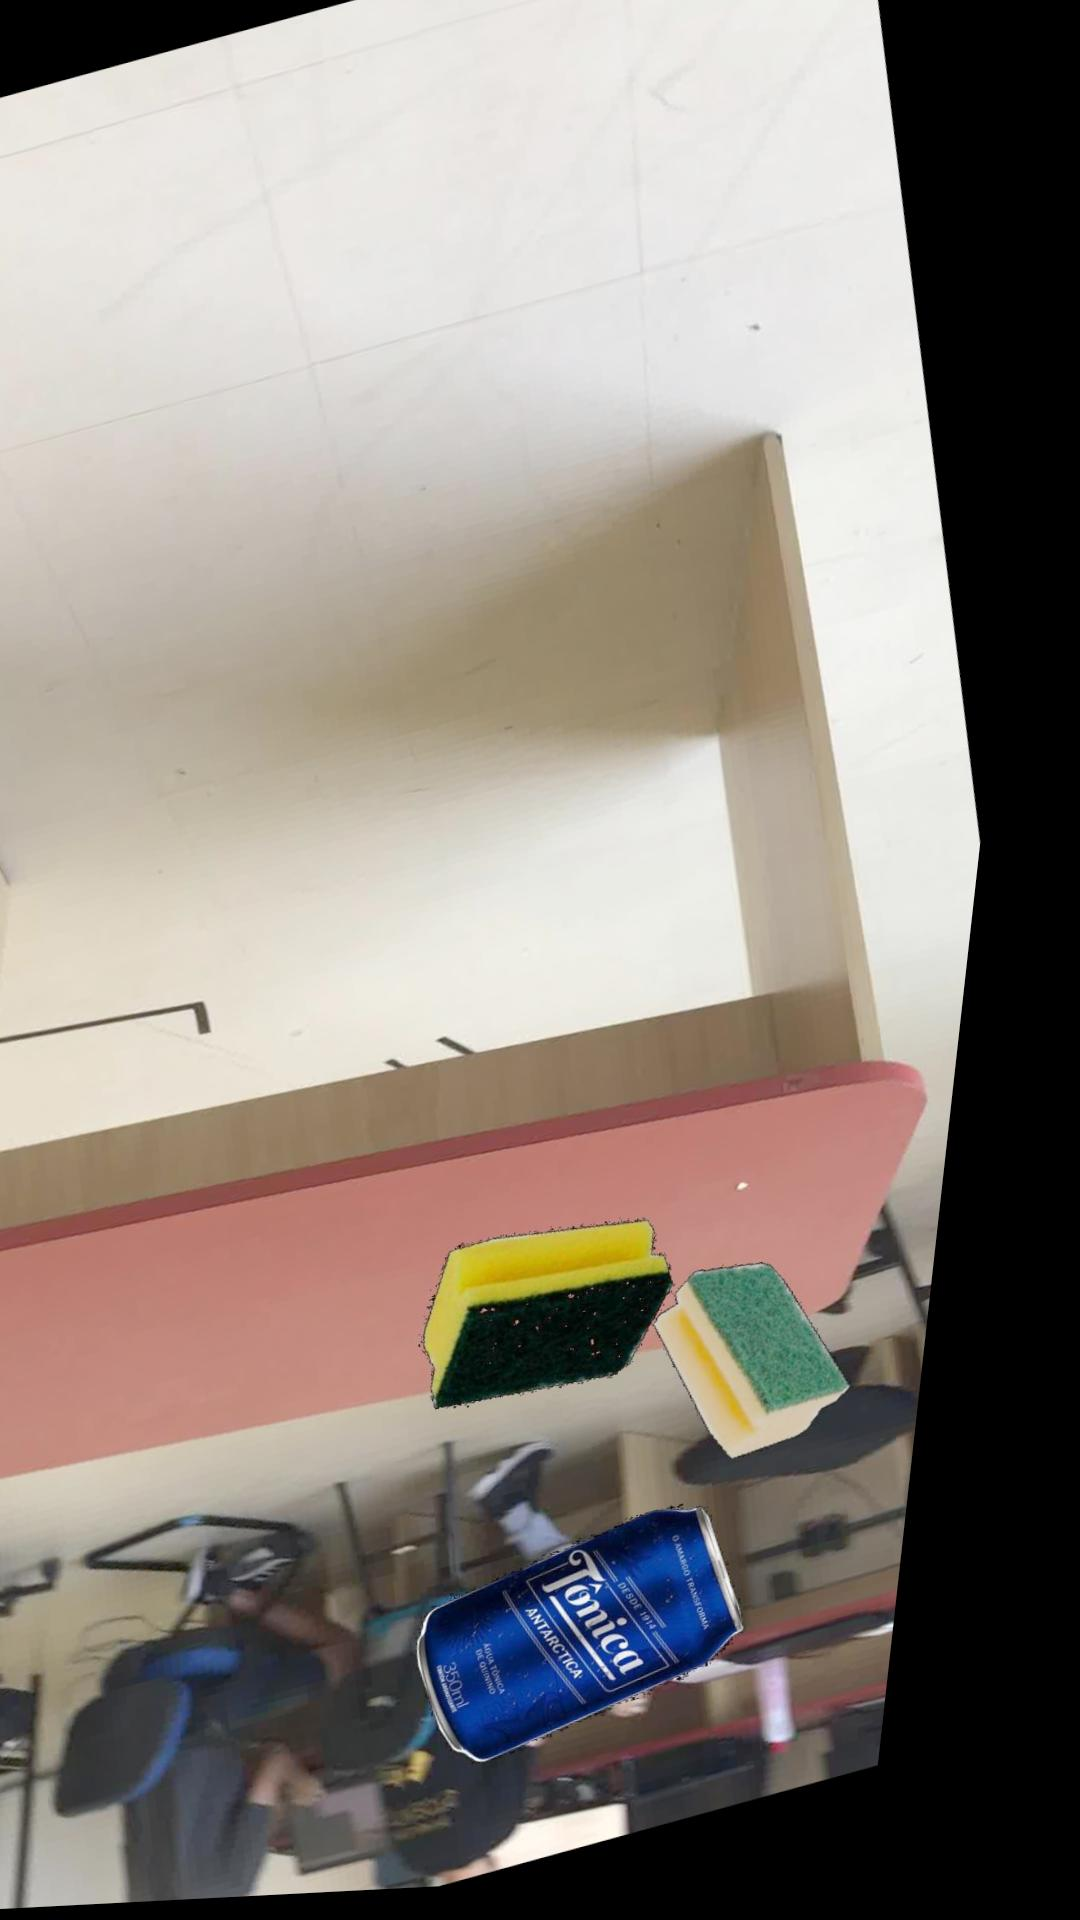sponge: (453, 1228, 702, 1416), (682, 1272, 882, 1470)
tonic: (453, 1516, 781, 1770)
